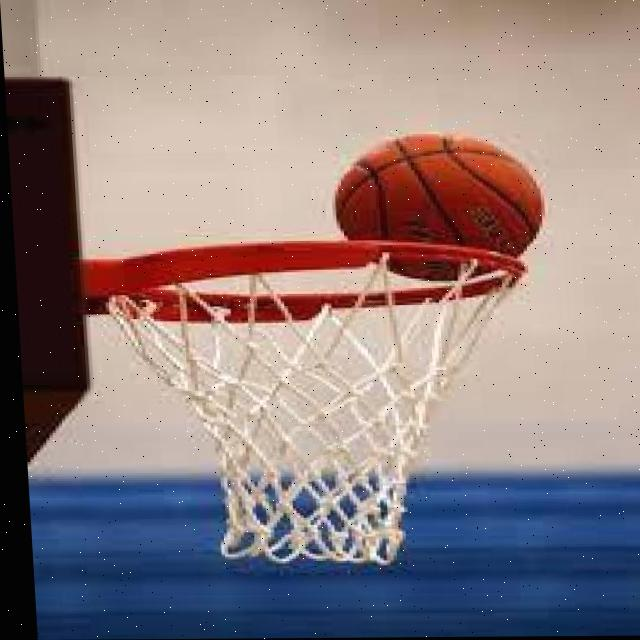rebound_hit: (331, 129, 547, 282)
